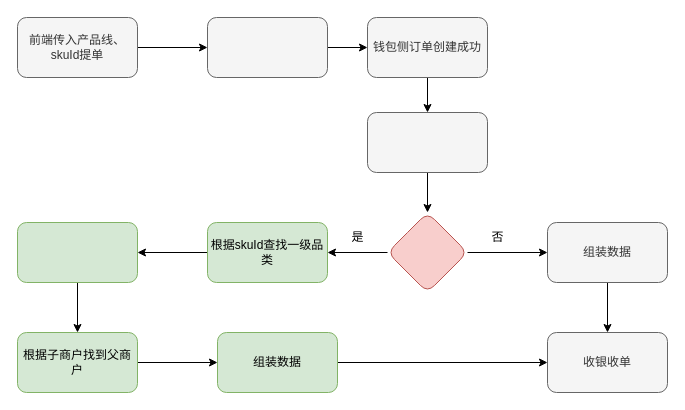
This 685x410 diagram has some shape labels left out. Each missing label, with the centre of its shape:
"提交收银收单接口" belongs at (x=427, y=142).
"新架构" belongs at (x=427, y=252).
"校验逻辑" belongs at (x=267, y=47).
"根据一级品类映射找到对应的子商户" belongs at (x=77, y=252).
